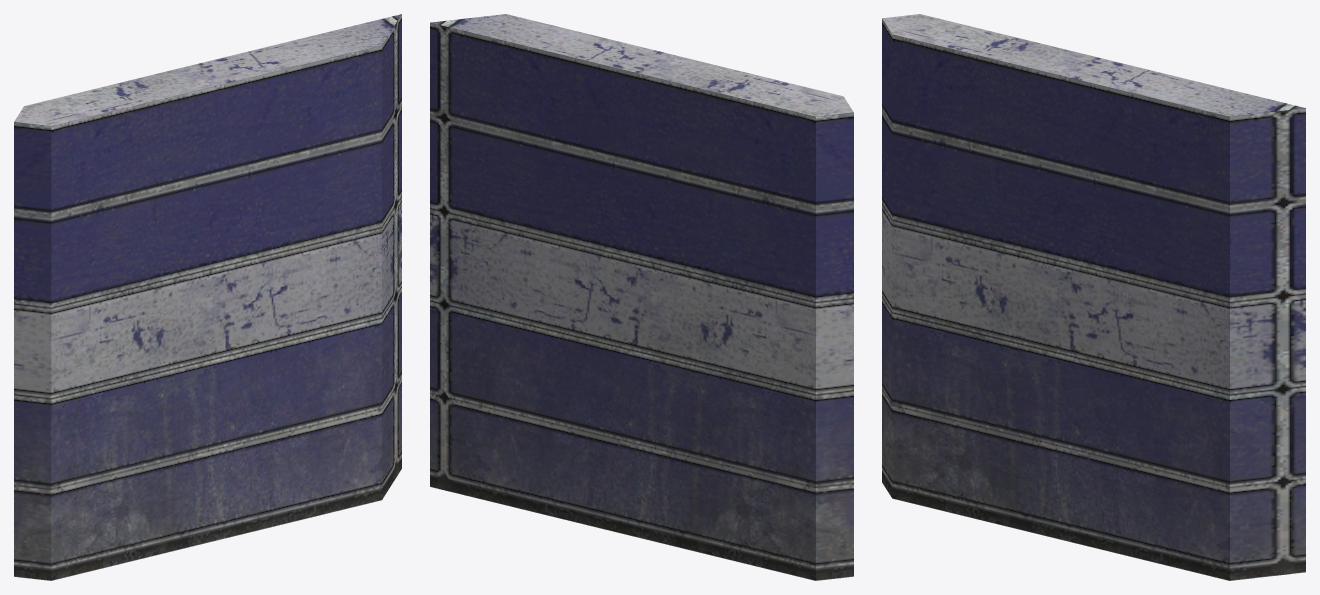
File: wall24.obj
3 renders of one model, left to right at view 1: azimuth 30°, elevation 25°; view 2: azimuth 150°, elevation 25°; view 3: azimuth 330°, elevation 25°, orthographic. The views are drawn at different scales.
Parts seen in each view (by area): view 1: Cube.027; view 2: Cube.027; view 3: Cube.027.
Boxes of the visible parts, x1=… form: Cube.027: x1=14, y1=14, x2=401, y2=580; Cube.027: x1=430, y1=14, x2=853, y2=580; Cube.027: x1=882, y1=14, x2=1305, y2=580.
Bounding box in the file's own units: 2.66 × 2.88 × 0.3125.
